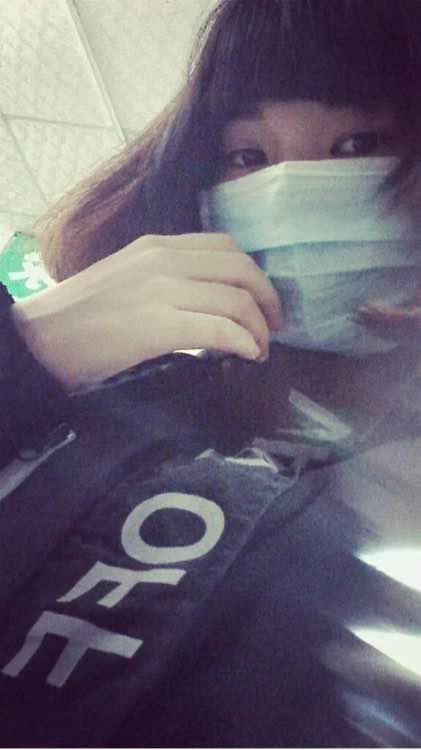OK: (206, 97, 414, 335)
